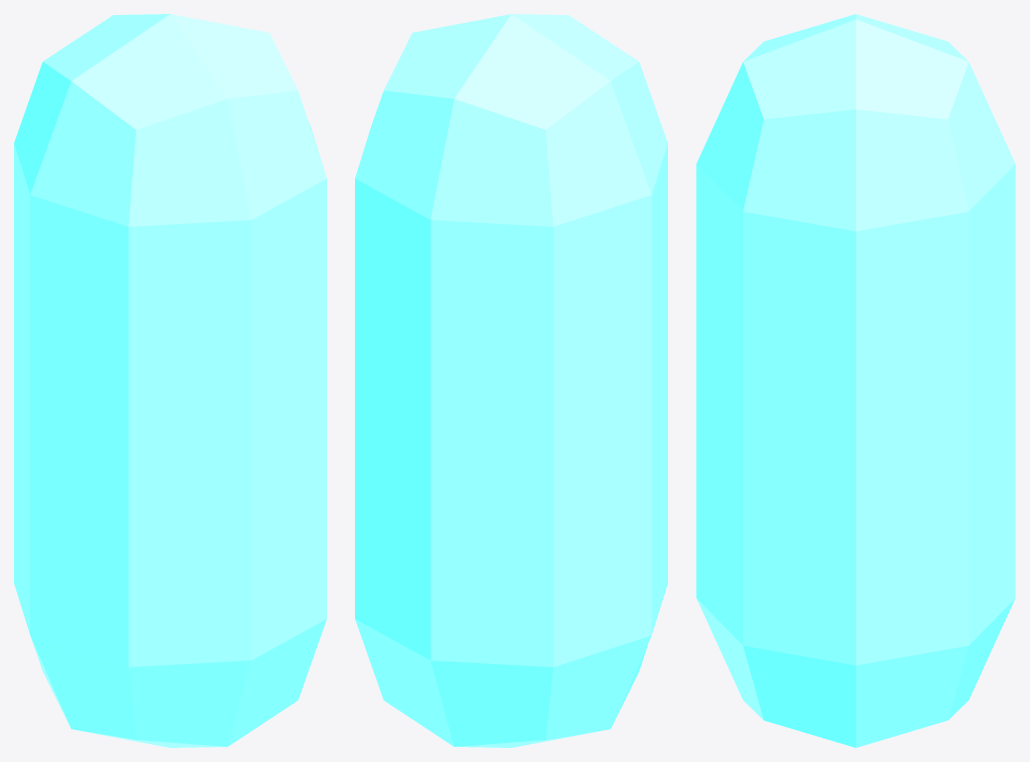
File: Health_Pickup.glb
The picture shows the model from 3 angles, left to right: view 1: azimuth 30°, elevation 25°; view 2: azimuth 150°, elevation 25°; view 3: azimuth 270°, elevation 25°; orthographic projection.
Visible parts, largest first — view 1: Health_Pickup_geometry; view 2: Health_Pickup_geometry; view 3: Health_Pickup_geometry.
Boxes of the visible parts, x1,y1,x2,y2 form: Health_Pickup_geometry: (14, 14, 326, 747); Health_Pickup_geometry: (355, 14, 667, 747); Health_Pickup_geometry: (696, 14, 1015, 747).
Bounding box in the file's own units: 1.2 × 3 × 1.2.
